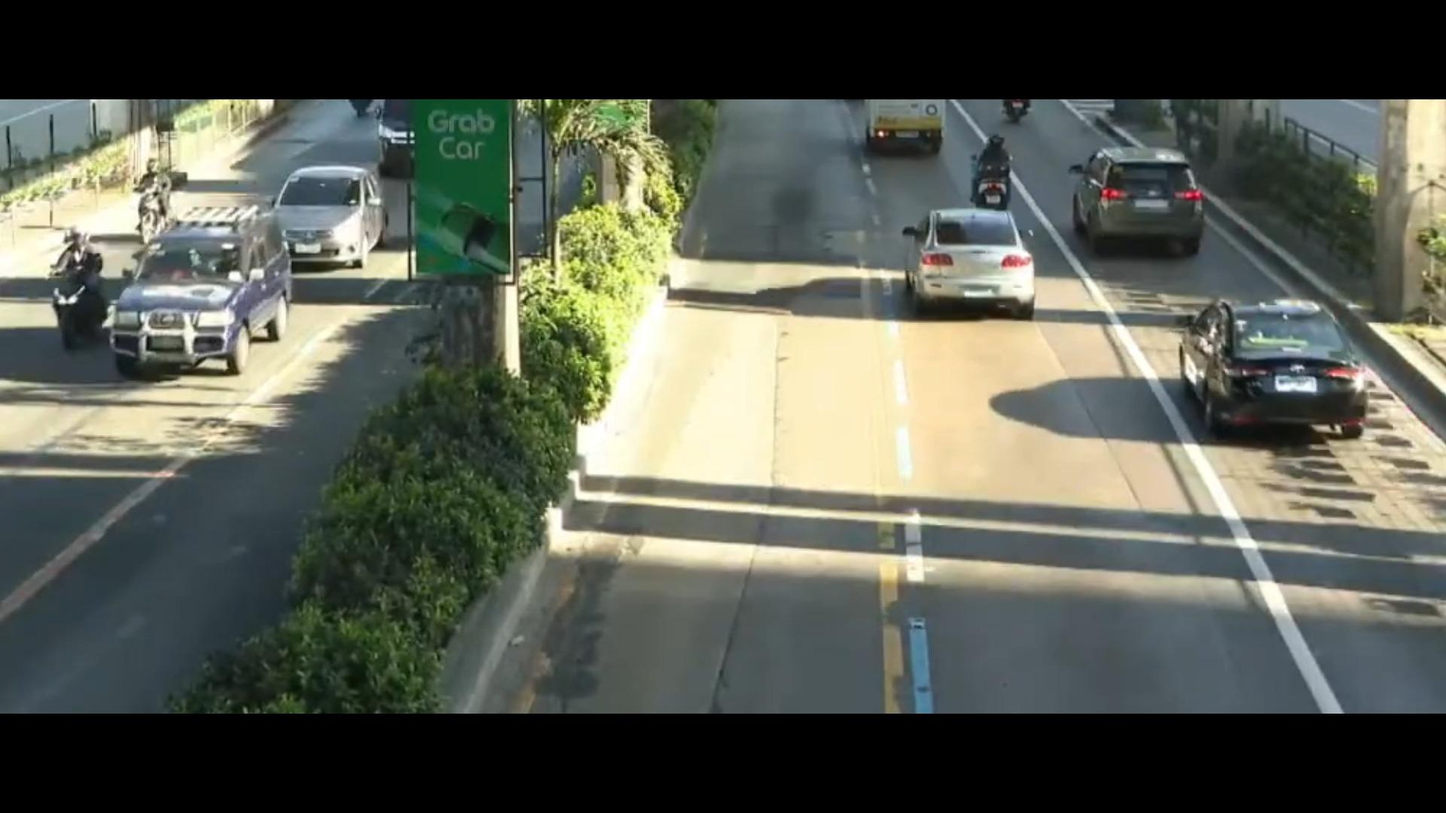Motorcycle: (44, 228, 117, 362), (108, 143, 187, 243), (950, 130, 1021, 224)
SUV: (82, 198, 294, 387), (1044, 130, 1222, 256)
Sedan: (1156, 290, 1347, 428), (883, 196, 1036, 325), (280, 158, 390, 274)
Truck: (862, 96, 951, 160)
Van: (381, 89, 415, 166)
